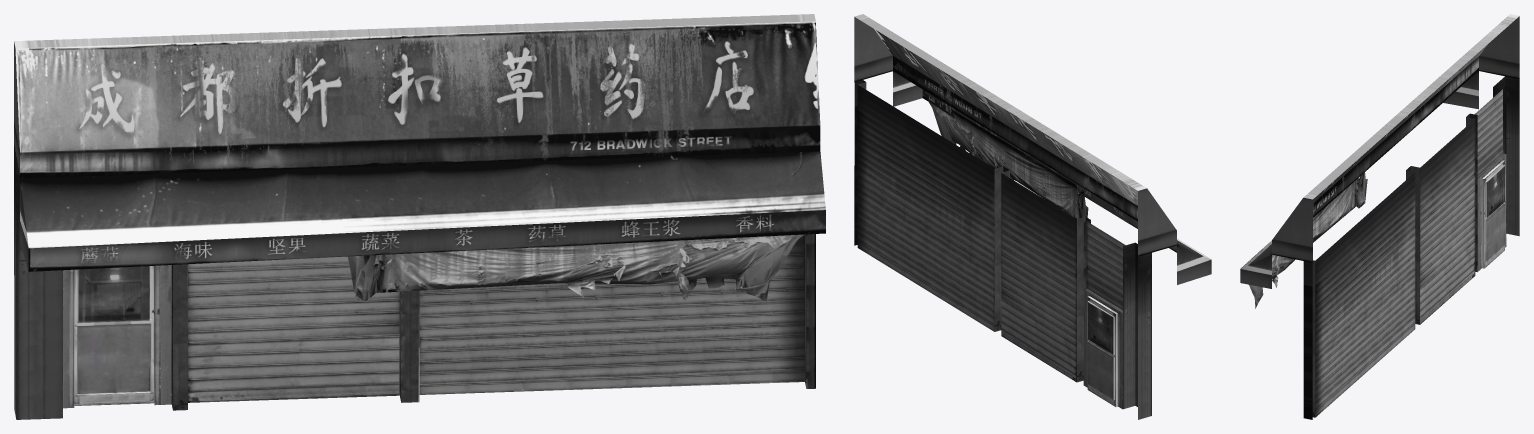
The model's file is chinatown_herbal.fbx.
3 views of the same model, side by side, from view 1: azimuth 30°, elevation 25°; view 2: azimuth 150°, elevation 25°; view 3: azimuth 270°, elevation 25° (orthographic). The views are drawn at different scales.
Parts seen in each view (by area): view 1: chinatown_herbal; view 2: chinatown_herbal; view 3: chinatown_herbal.
Boxes of the visible parts, box(x1,y1,x2,y2) form: chinatown_herbal: box(14, 14, 825, 419); chinatown_herbal: box(854, 14, 1211, 419); chinatown_herbal: box(1240, 14, 1519, 419).
Size of the model in its own units: 1123 by 581 by 667.
